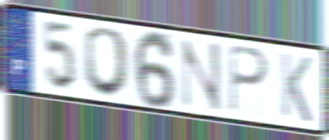5: (41, 18, 79, 92)
6: (131, 27, 178, 111)
K: (279, 50, 314, 126)
N: (179, 36, 224, 114)
O: (81, 25, 133, 99)
P: (227, 42, 271, 115)
